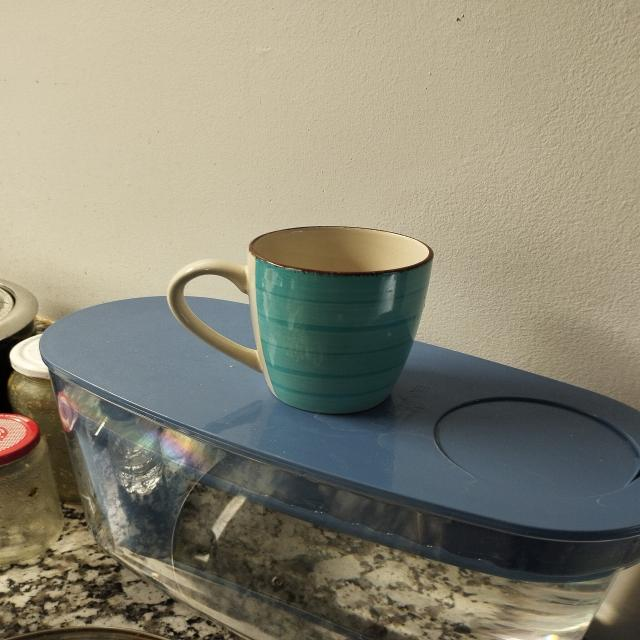Cup: (134, 184, 492, 424)
